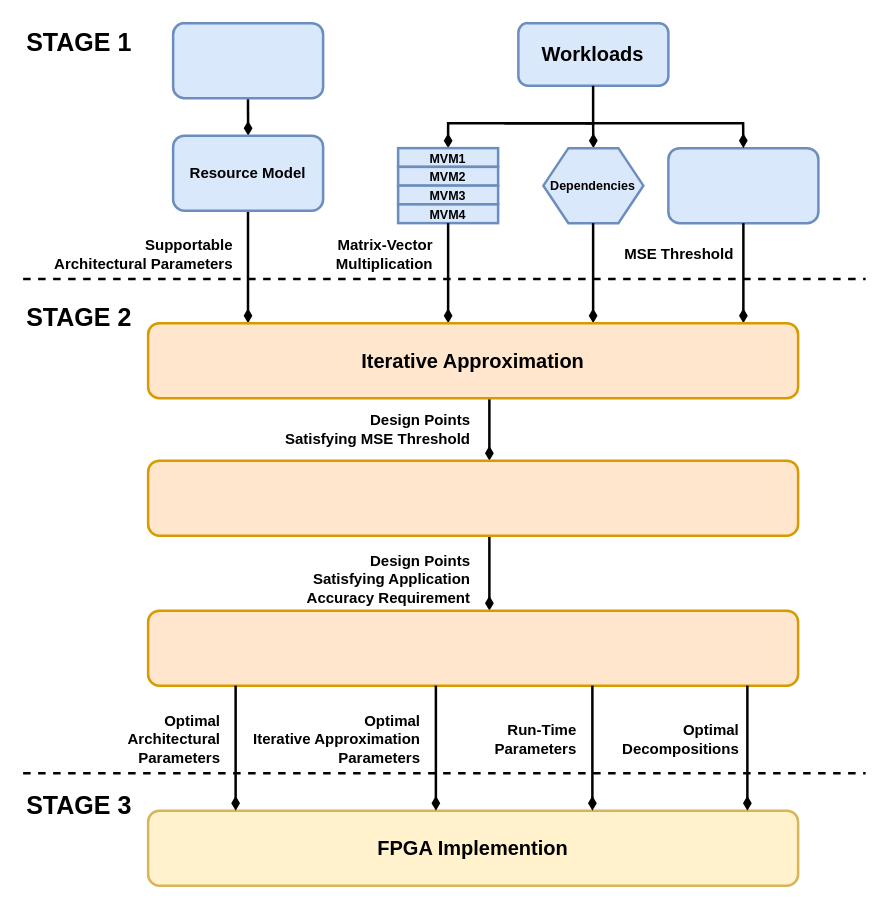
The diagram is 889 pixels wide and 908 high, and some of its shapes have lost their labels. Each missing label, with the centre of its shape:
"Application Evaluation Set" goes at point 472,497.
"Evaluator" goes at point 742,185.
"Roofline Model" goes at point 472,647.
"Target FPGA Resource" goes at point 247,60.
